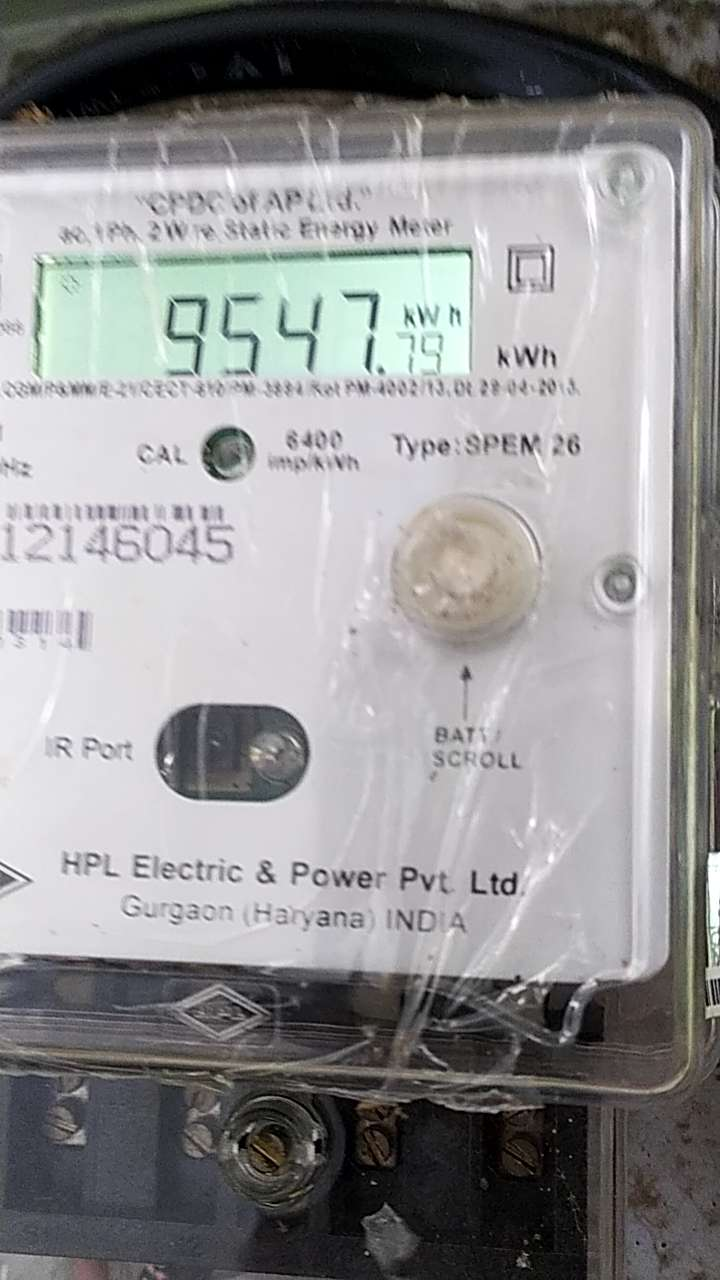meter_serial_number: (1, 518, 244, 569)
